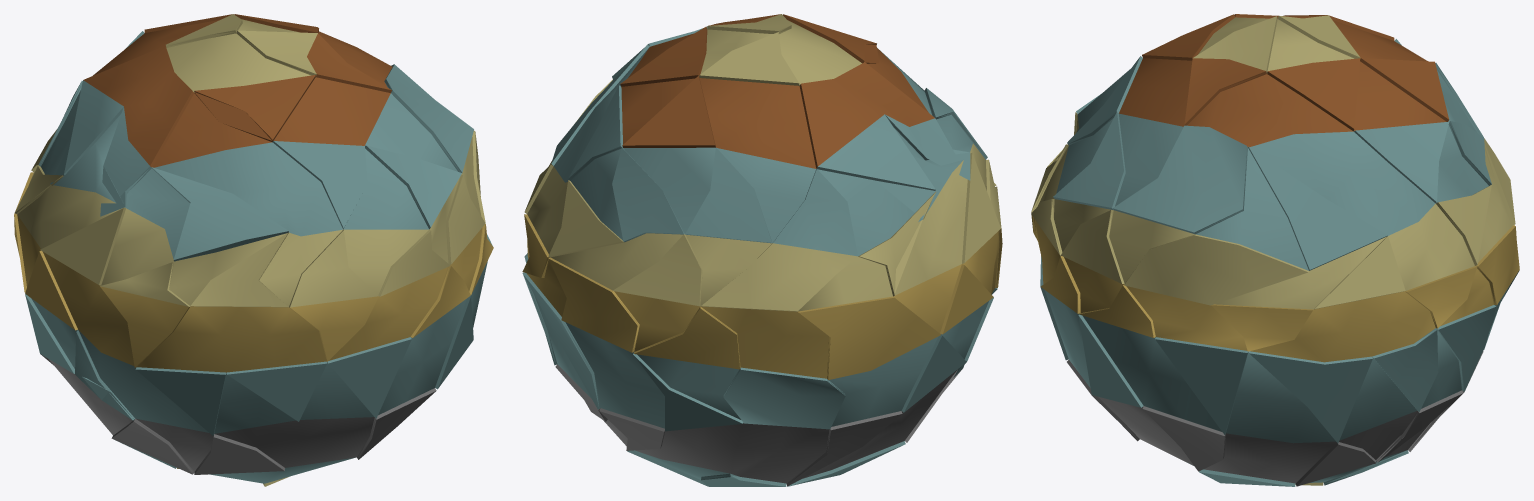
The model's file is Jupiter_1225.obj.
The picture shows the model from 3 angles, left to right: view 1: azimuth 30°, elevation 25°; view 2: azimuth 150°, elevation 25°; view 3: azimuth 270°, elevation 25°; orthographic projection.
Visible parts, largest first — view 1: GeoSphere001; view 2: GeoSphere001; view 3: GeoSphere001.
Boxes of the visible parts, x1=… form: GeoSphere001: x1=14, y1=14, x2=493, y2=486; GeoSphere001: x1=522, y1=14, x2=1002, y2=486; GeoSphere001: x1=1031, y1=14, x2=1519, y2=486.
Size of the model in its own units: 16.11 by 16.35 by 16.18.
